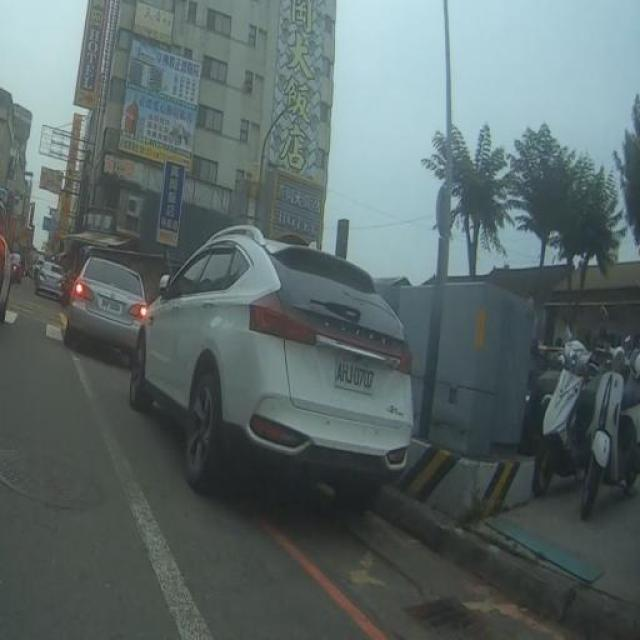Legalparking: (109, 208, 455, 533)
